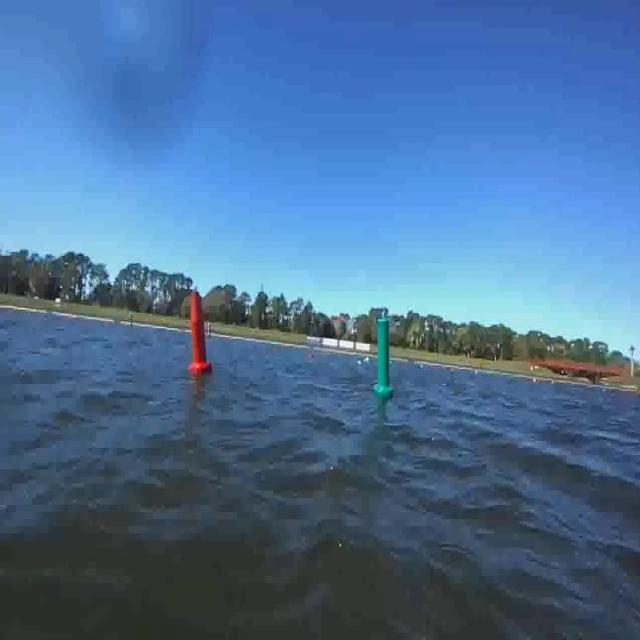green-column-buoy: (374, 316, 394, 397)
red-column-buoy: (188, 291, 212, 376)
